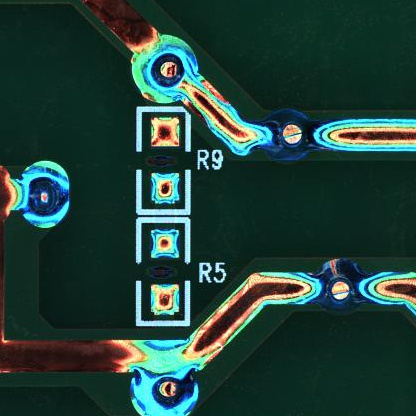spot: (131, 35, 197, 103), (16, 161, 71, 230), (131, 368, 200, 416), (257, 110, 315, 165), (312, 256, 367, 312)
